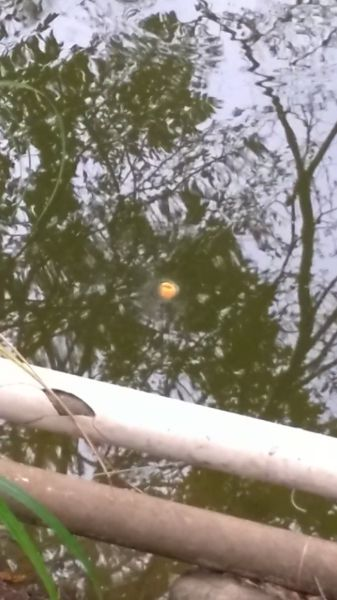eggs: (155, 277, 181, 303)
